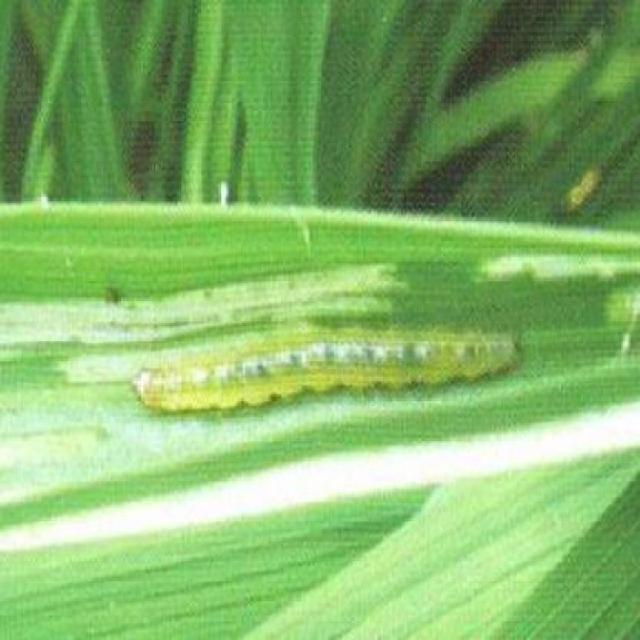leaf-folder: (165, 289, 533, 416)
